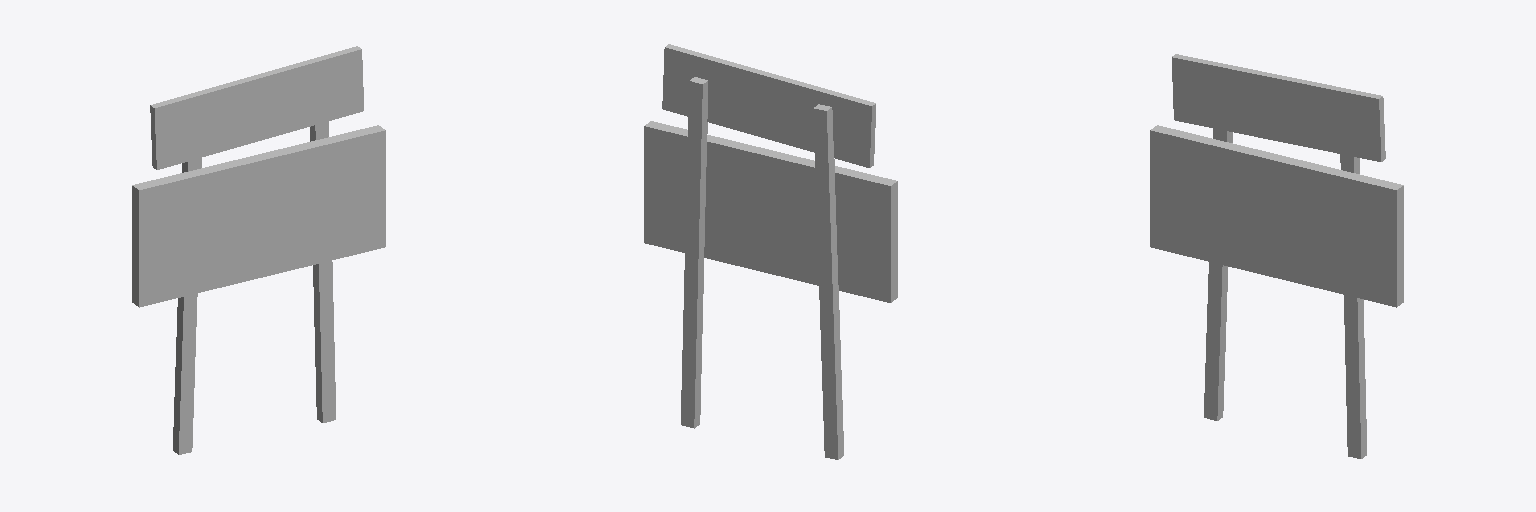
Rendered from Helps.obj.
The picture shows the model from 3 angles: view 1: azimuth 30°, elevation 25°; view 2: azimuth 150°, elevation 25°; view 3: azimuth 330°, elevation 25°; orthographic projection.
Visible parts, largest first — view 1: Front1, Front2, Back1, Back2; view 2: Front1, Front2, Back2, Back1; view 3: Front1, Front2, Back1, Back2.
Part boxes in pixels (x1,y1,x2,y2): Front1: (132,125,385,307); Front2: (150,46,363,169); Back1: (310,121,335,422); Back2: (173,158,201,454); Front1: (644,121,897,302); Front2: (662,44,875,167); Back2: (813,104,843,459); Back1: (681,77,707,428); Front1: (1150,125,1403,307); Front2: (1172,54,1385,161); Back1: (1340,154,1366,458); Back2: (1204,128,1232,420).
Bounding box in the file's own units: 14.92 × 21.33 × 1.36.